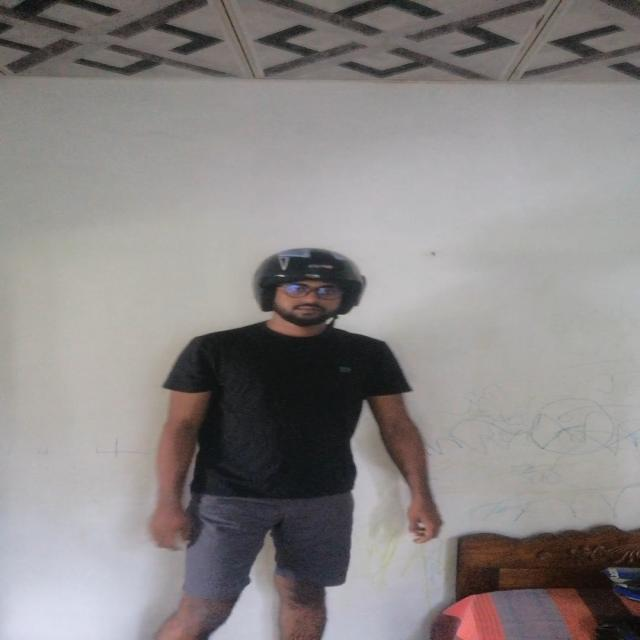Helmet_Wearer: (241, 244, 369, 356)
Person: (154, 238, 449, 640)
